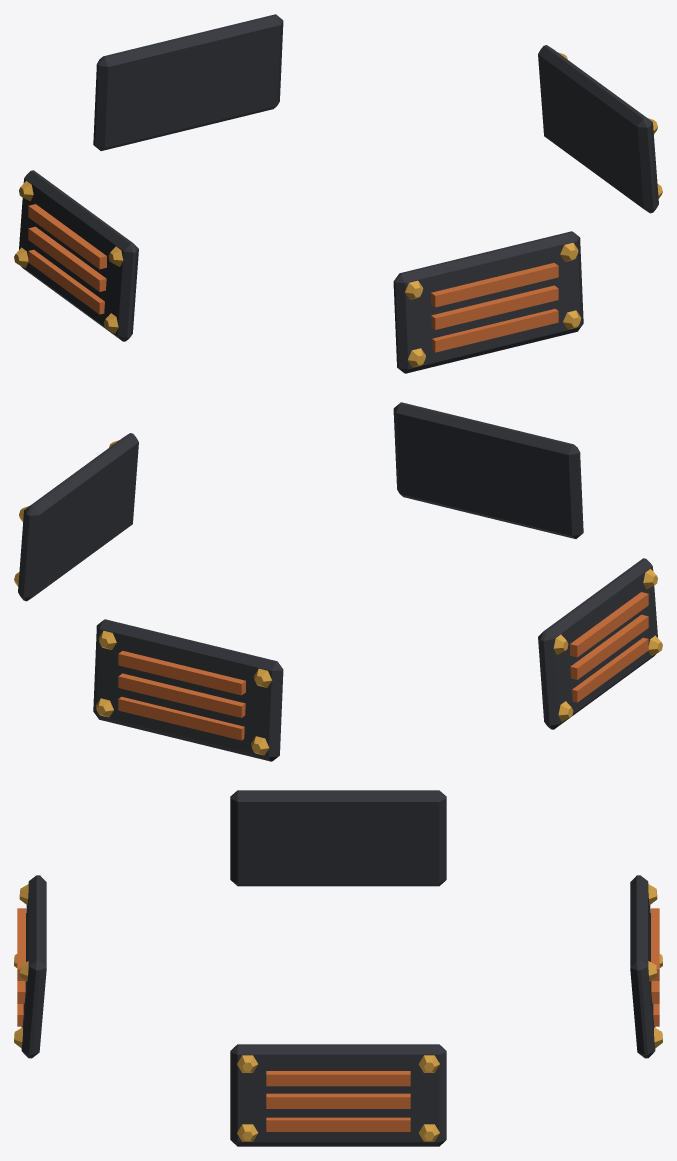
File: TeslaKit5.obj
3 renders of one model, top to bottom at view 1: azimuth 30°, elevation 25°; view 2: azimuth 150°, elevation 25°; view 3: azimuth 270°, elevation 25°, orthographic.
Visible parts, largest first — view 1: TeslaKit5; view 2: TeslaKit5; view 3: TeslaKit5.
Boxes of the visible parts, x1,y1,x2,y2 form: TeslaKit5: (14, 14, 662, 373); TeslaKit5: (14, 402, 662, 761); TeslaKit5: (14, 790, 662, 1146).
Size of the model in its own units: 0.9002 by 0.1499 by 0.9002.
